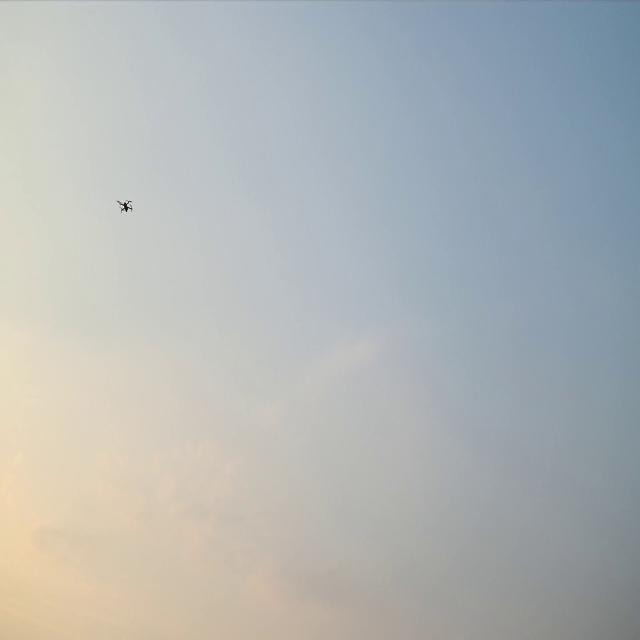UAV: (118, 201, 132, 211)
